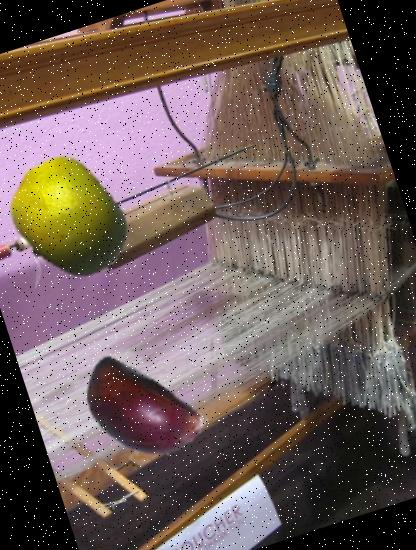Chestnut: (57, 331, 218, 492)
Pomelo: (0, 139, 148, 299)
